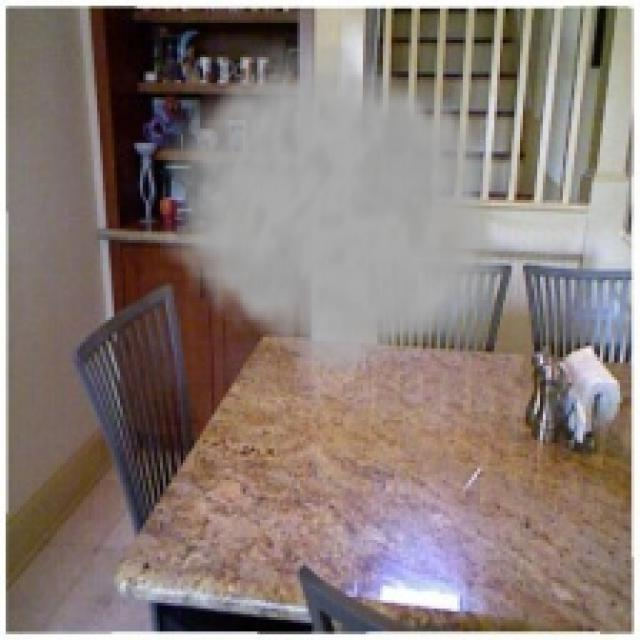Smoke: (160, 23, 514, 386)
